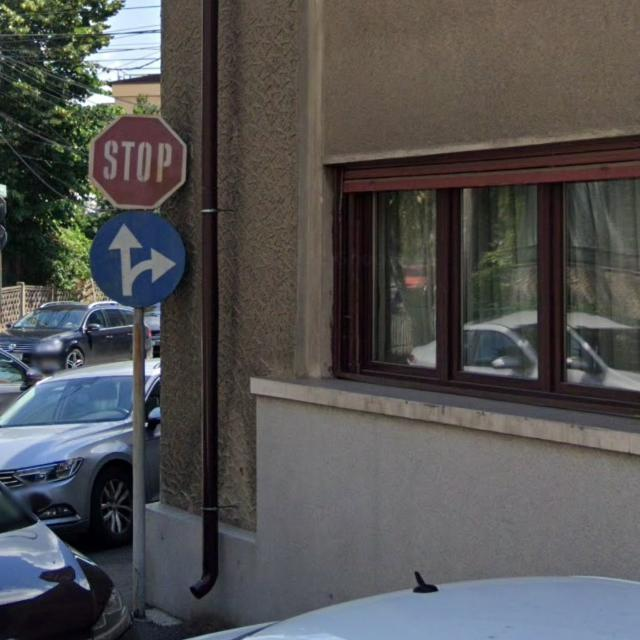prio_stop: (87, 115, 188, 210)
